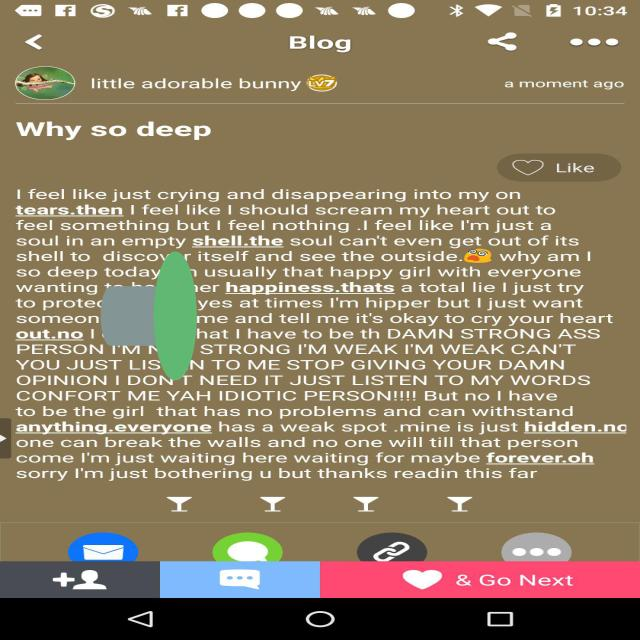social proof: (100, 172, 196, 460)
